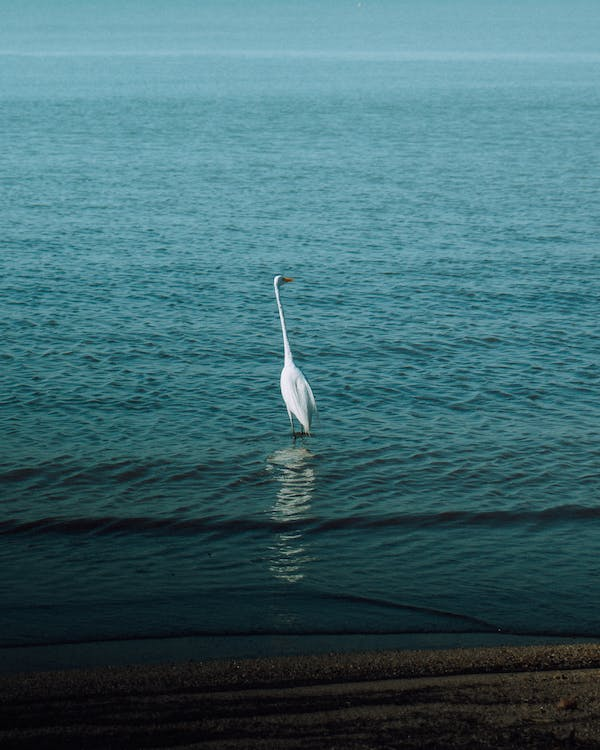Walking: (216, 255, 378, 469)
